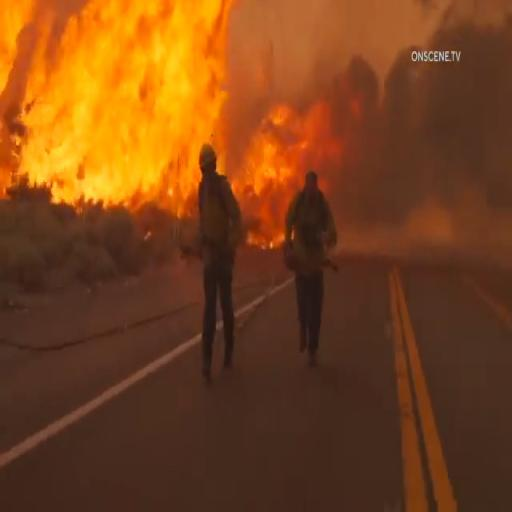fire: (0, 0, 213, 138), (249, 93, 294, 201)
smoke: (356, 95, 494, 237)
